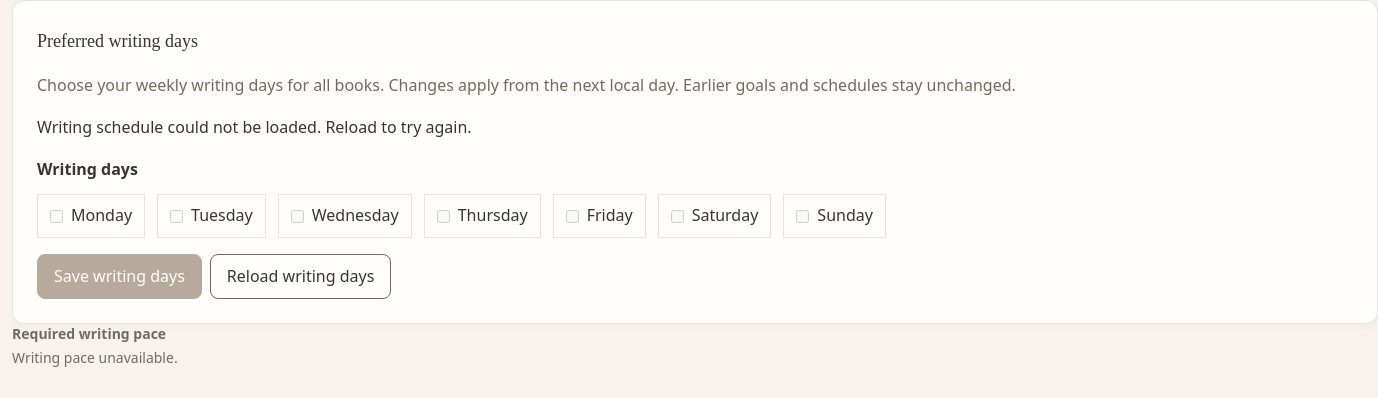
Test case: load failures have no numeric pace or editable defaults; reload recovers
Expected: the message shows "Writing schedule could not be loaded", [37, 116, 472, 138]
Expected: the checkbox labelled "Monday" is disabled, [50, 210, 63, 223]
Click the button "Reload writing days" at [301, 276], box [210, 254, 391, 299]
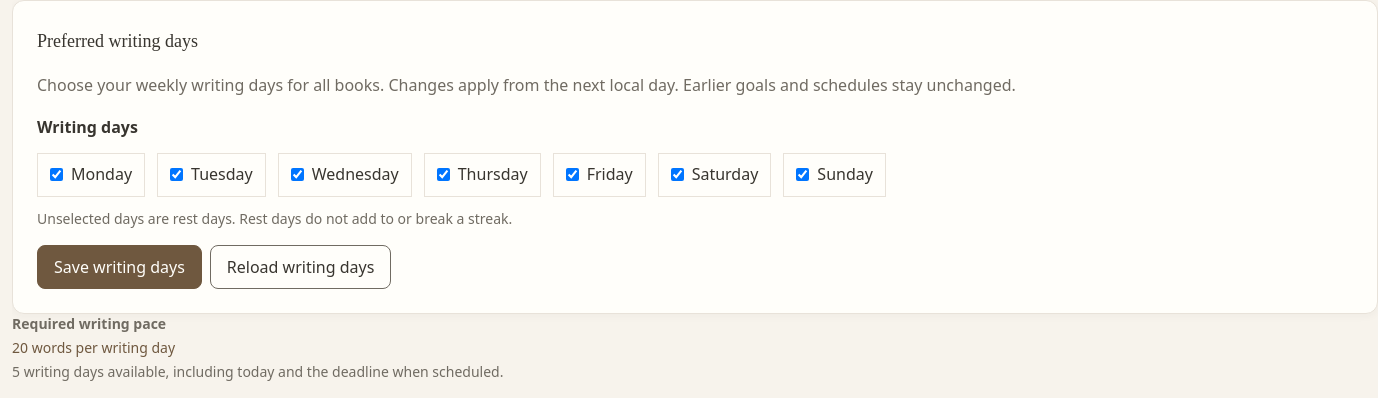
Result: the text "20 words per writing day" is shown at [12, 338, 175, 357]
